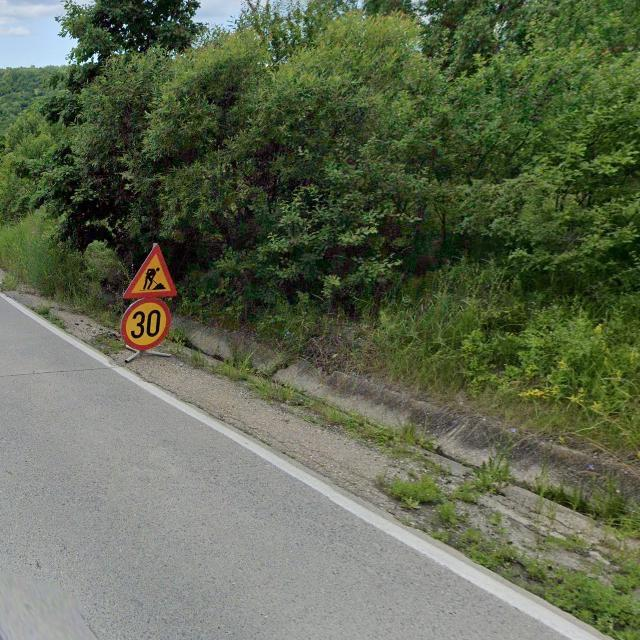forb_speed_over_30: (121, 298, 171, 350)
